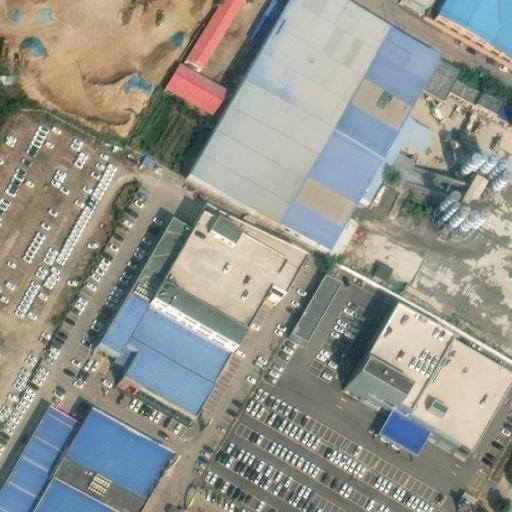building: (191, 0, 458, 245), (357, 295, 512, 443), (150, 203, 302, 343), (98, 285, 235, 412), (27, 398, 174, 512), (359, 106, 436, 208), (129, 206, 195, 297), (293, 266, 342, 331), (377, 398, 432, 448), (449, 69, 508, 110), (350, 361, 404, 401), (249, 0, 287, 38), (457, 168, 487, 205)
